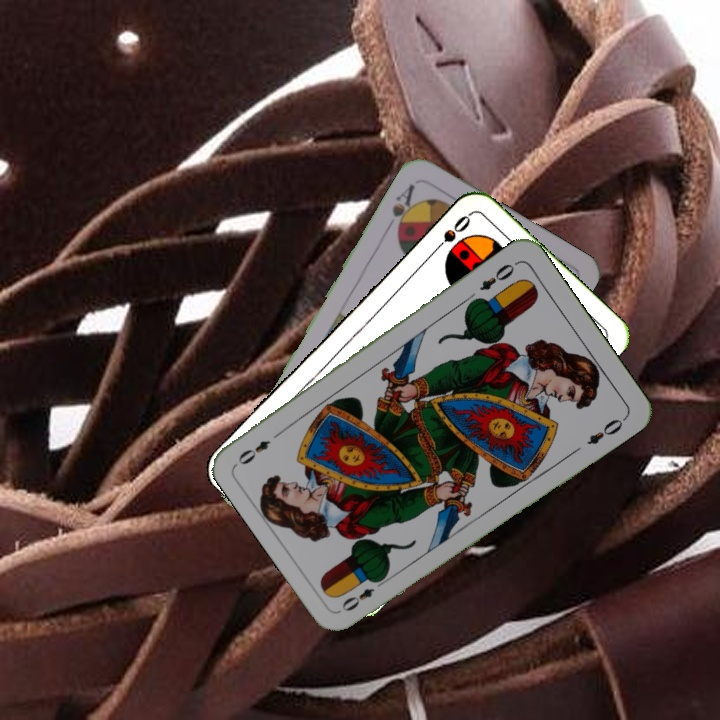EO: (337, 574, 390, 615), (475, 259, 517, 294)
SA: (382, 179, 420, 237)
SO: (427, 210, 473, 257)
